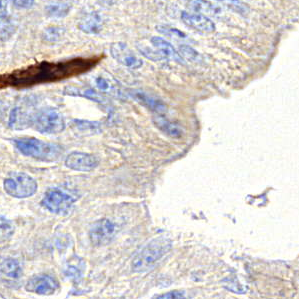Lymphocyte: (1, 54, 108, 83)
